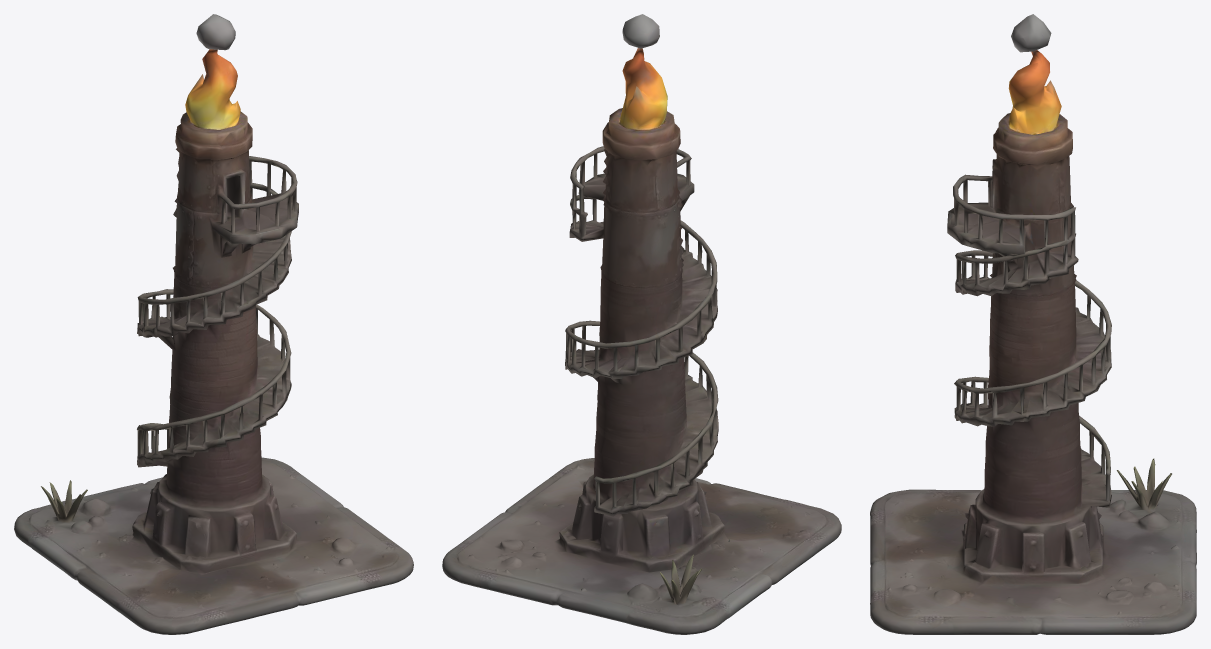
Rendered from refinery_flare_stack.glb.
The picture shows the model from 3 angles, left to right: view 1: azimuth 30°, elevation 25°; view 2: azimuth 150°, elevation 25°; view 3: azimuth 270°, elevation 25°; orthographic projection. The views are drawn at different scales.
Visible parts, largest first — view 1: tripo_node_6edff31e-0f43-42e5-9381-cf368307b2c2; view 2: tripo_node_6edff31e-0f43-42e5-9381-cf368307b2c2; view 3: tripo_node_6edff31e-0f43-42e5-9381-cf368307b2c2.
Part boxes in pixels (x1,y1,x2,y2): tripo_node_6edff31e-0f43-42e5-9381-cf368307b2c2: [14, 14, 413, 634]; tripo_node_6edff31e-0f43-42e5-9381-cf368307b2c2: [442, 14, 841, 634]; tripo_node_6edff31e-0f43-42e5-9381-cf368307b2c2: [870, 14, 1196, 634].
Bounding box in the file's own units: 0.5297 × 1 × 0.5345.
Materials: 1 (1 with a texture image).
